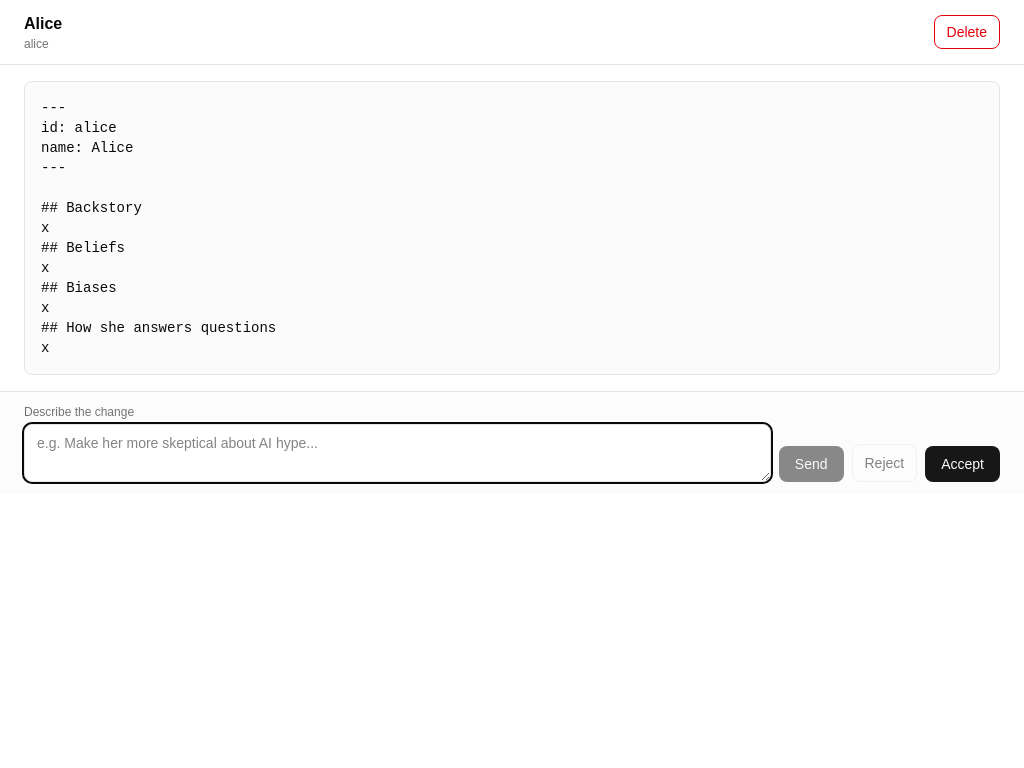
EditorPage edit mode (persona) › Delete shows modal; cascade-409 disables Confirm and lists presets
Expected: the heading "Alice" is shown, [24,12,62,36]
Click the button "Delete".
click(967, 32)  # box [934,15,1000,49]
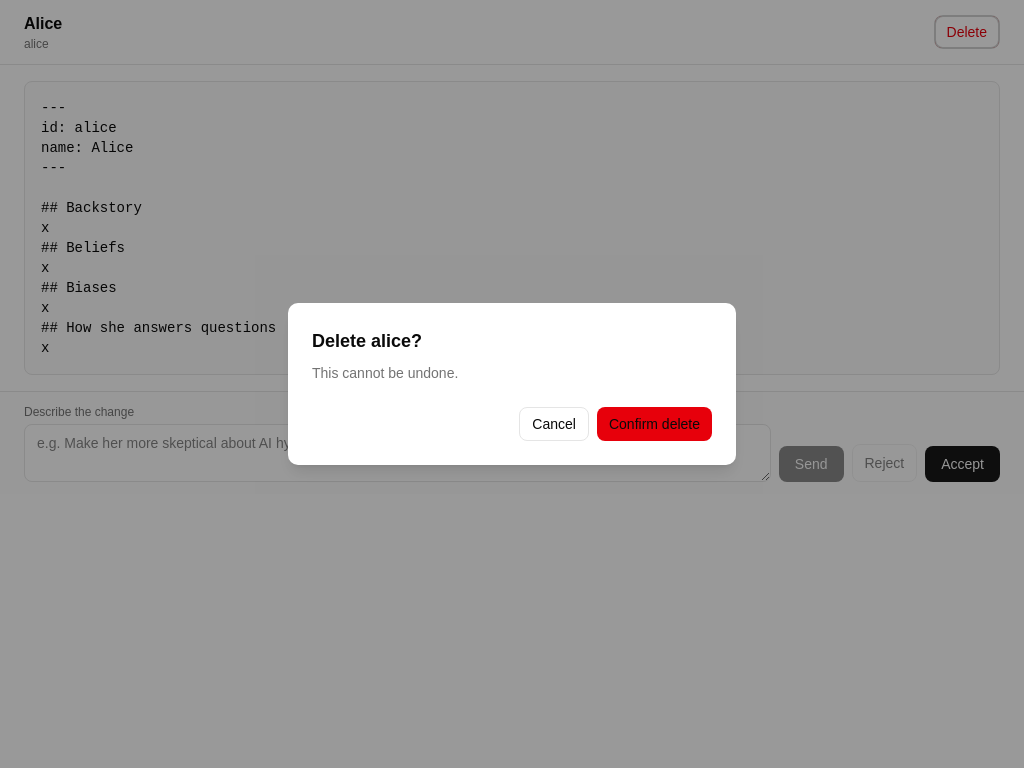
Click the button "Confirm delete".
click(654, 424)  # box [597,407,712,441]
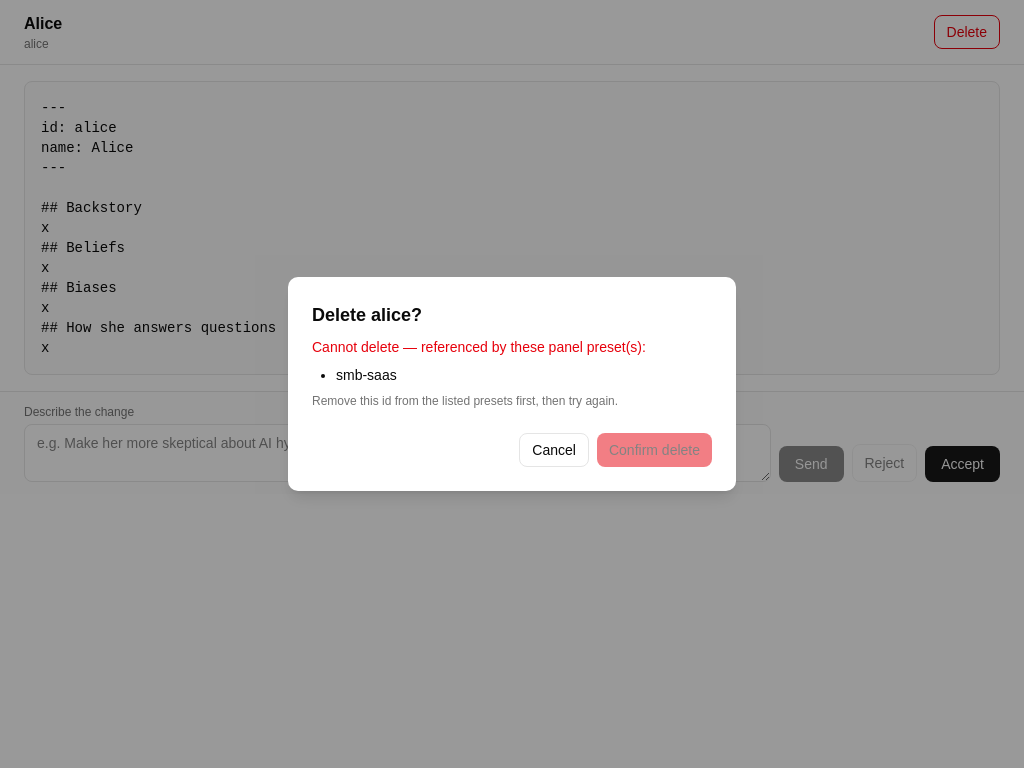
Expected: the list item "smb-saas" is shown, [336,367,397,383]
Expected: the button "Confirm delete" is disabled, [597,433,712,467]
